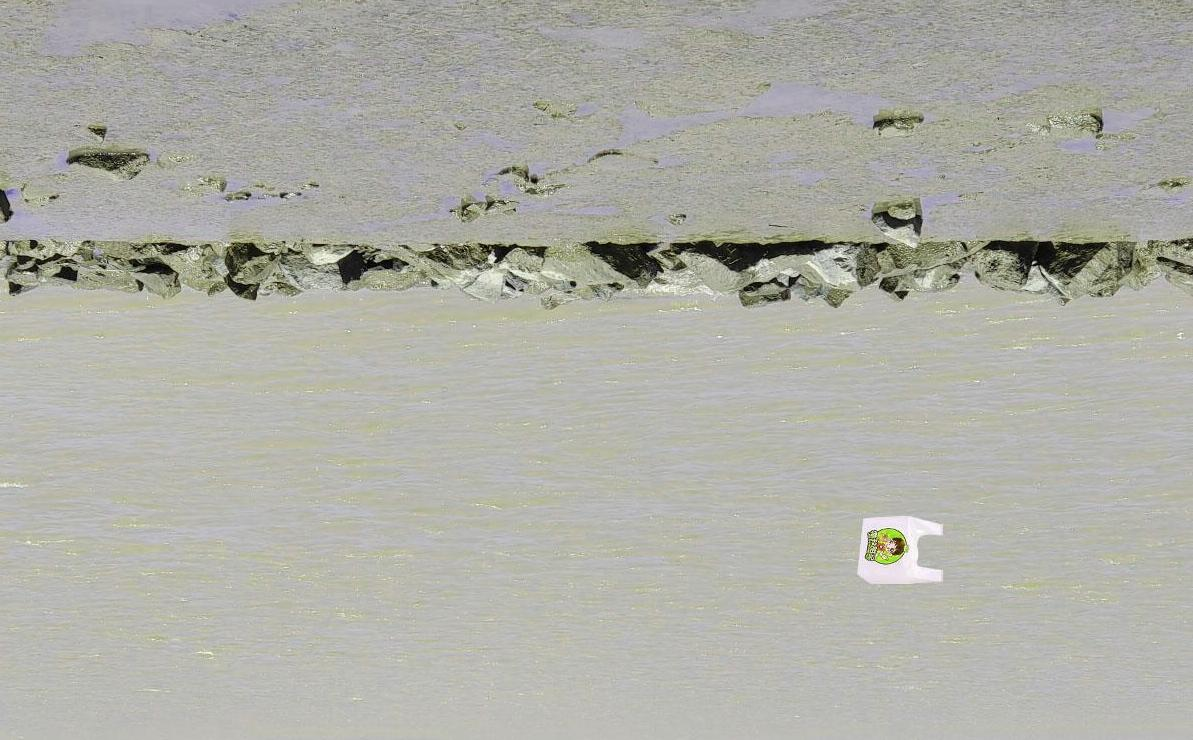Trash: (855, 510, 945, 592)
